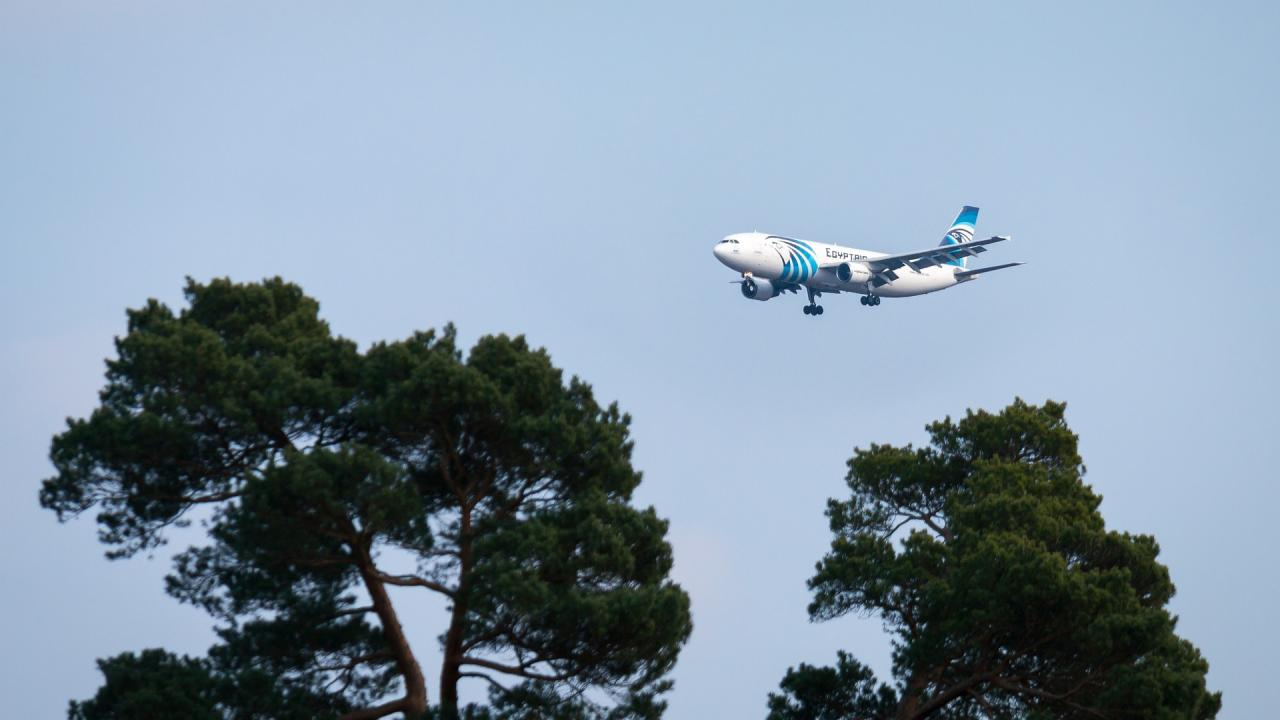Airplane: (705, 192, 1037, 323)
